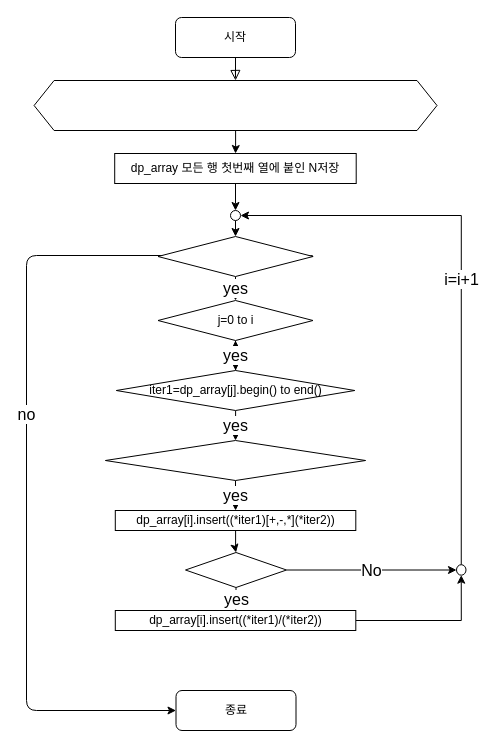
The diagram is 496 pixels wide and 748 high, and some of its shapes have lost their labels. Here are the shapes that lost their labels. From the top down, the centre of each, then its label:
the point at 235,105: vector<set<int>> 행은 vector 열은 set 2차원 저장소-dp_array set 반복자 iter1,iter2 N, number
the point at 235,256: i=0 to 8
the point at 235,460: iter2=dp_array[i-j-1].begin() to end()
the point at 235,570: (*iter2)!=0
